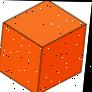cube: (0, 0, 89, 92)
